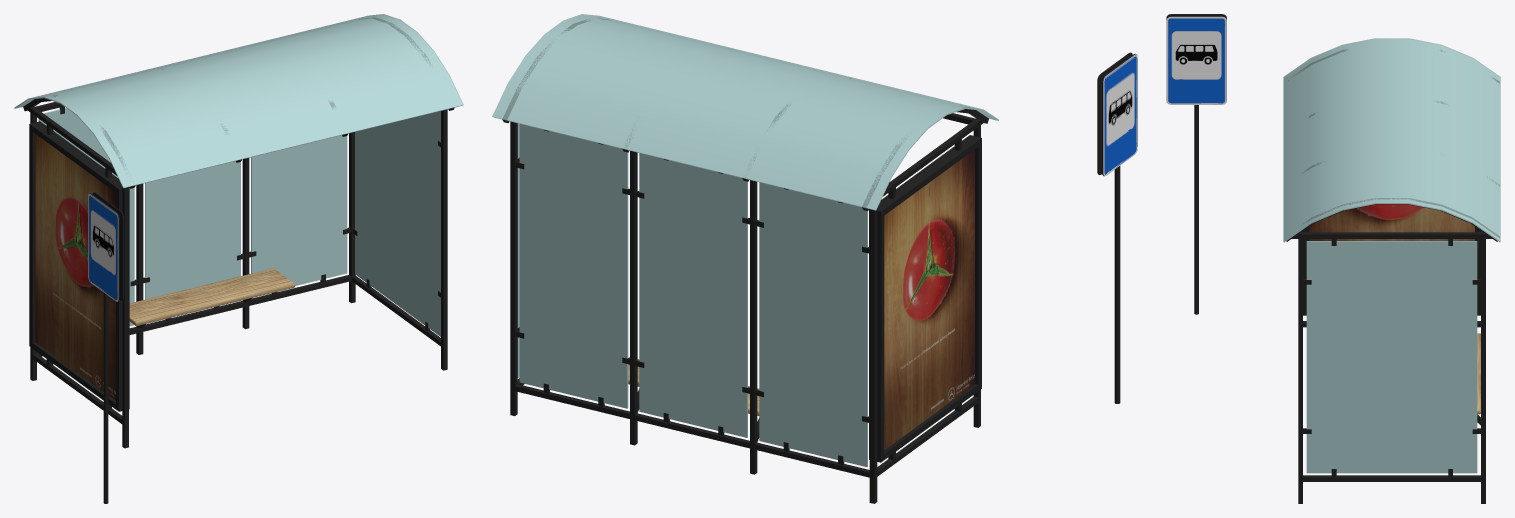
Rendered from bus_stop.FBX.
3 views of the same model, side by side, from view 1: azimuth 30°, elevation 25°; view 2: azimuth 150°, elevation 25°; view 3: azimuth 270°, elevation 25° (orthographic). The views are drawn at different scales.
Parts seen in each view (by area): view 1: bus_stop, sign; view 2: bus_stop, sign; view 3: bus_stop, sign.
Part boxes in pixels (bbox=[...]): bus_stop: bbox=[14, 14, 463, 448]; sign: bbox=[88, 192, 123, 503]; bus_stop: bbox=[492, 14, 998, 503]; sign: bbox=[1097, 52, 1137, 403]; bus_stop: bbox=[1283, 38, 1500, 503]; sign: bbox=[1166, 14, 1226, 314].
Bounding box in the file's own units: 150 × 109 × 108.
